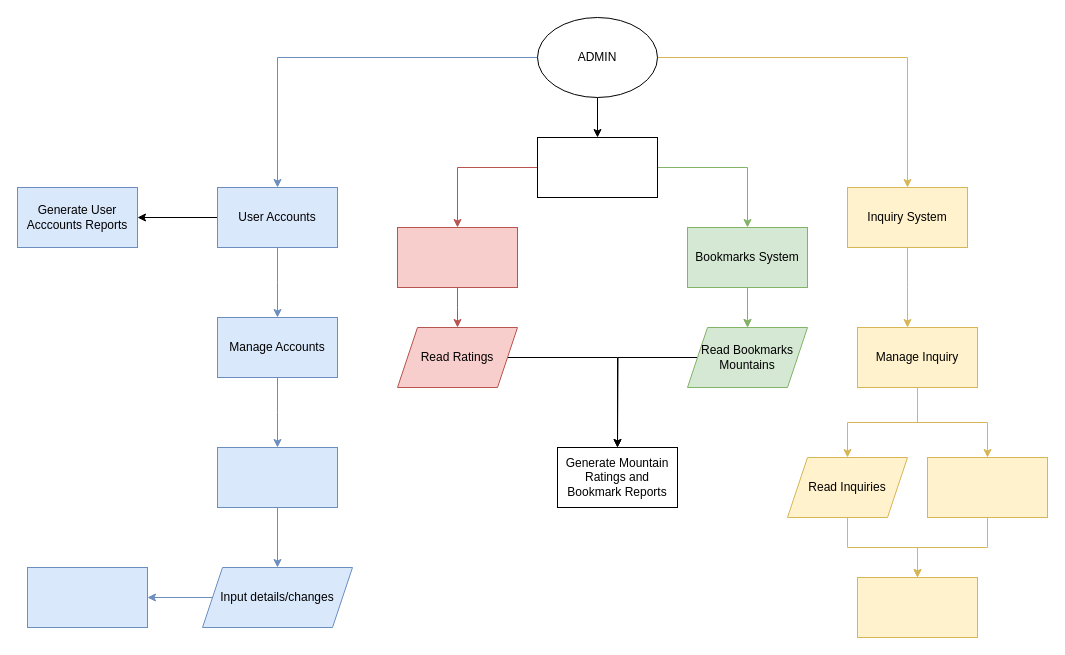
Some shapes in this 1065 by 655 pixel diagram are drawn without their labels. The shapes that lost their labels are listed below. From the top down, each one's centre as x and y in pixels, then its label:
At pixel 597 167: "Search Mountains".
At pixel 457 257: "Review/Ratings System".
At pixel 277 477: "Edit Account Details".
At pixel 987 487: "Delete Inquiry".
At pixel 87 597: "Update database".
At pixel 917 607: "Generate Inquiries Reports".
